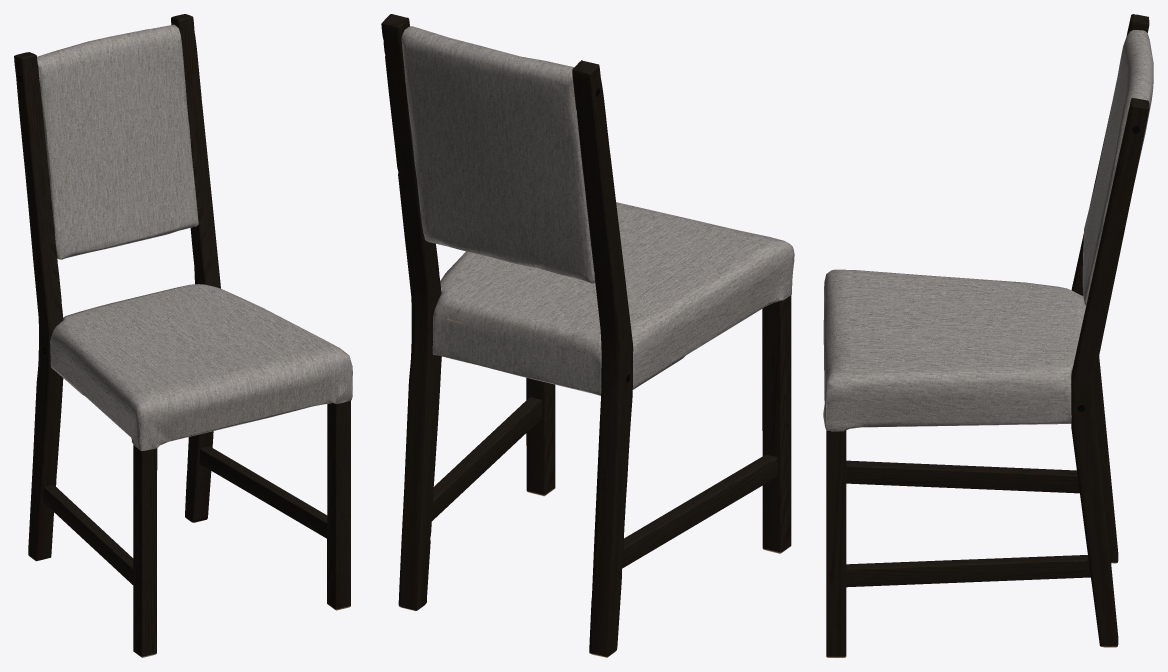
File: stefan_krzeso_80512087.glb
3 renders of one model, left to right at view 1: azimuth 30°, elevation 25°; view 2: azimuth 150°, elevation 25°; view 3: azimuth 270°, elevation 25°, orthographic. The views are drawn at different scales.
Parts seen in each view (by area): view 1: stefan_krzeso_80512087; view 2: stefan_krzeso_80512087; view 3: stefan_krzeso_80512087.
Boxes of the visible parts, x1,y1,x2,y2 form: stefan_krzeso_80512087: [14, 14, 352, 657]; stefan_krzeso_80512087: [381, 14, 794, 657]; stefan_krzeso_80512087: [823, 14, 1153, 657].
Size of the model in its own units: 0.4117 by 0.9003 by 0.4972.
1 material, 1 textured.
